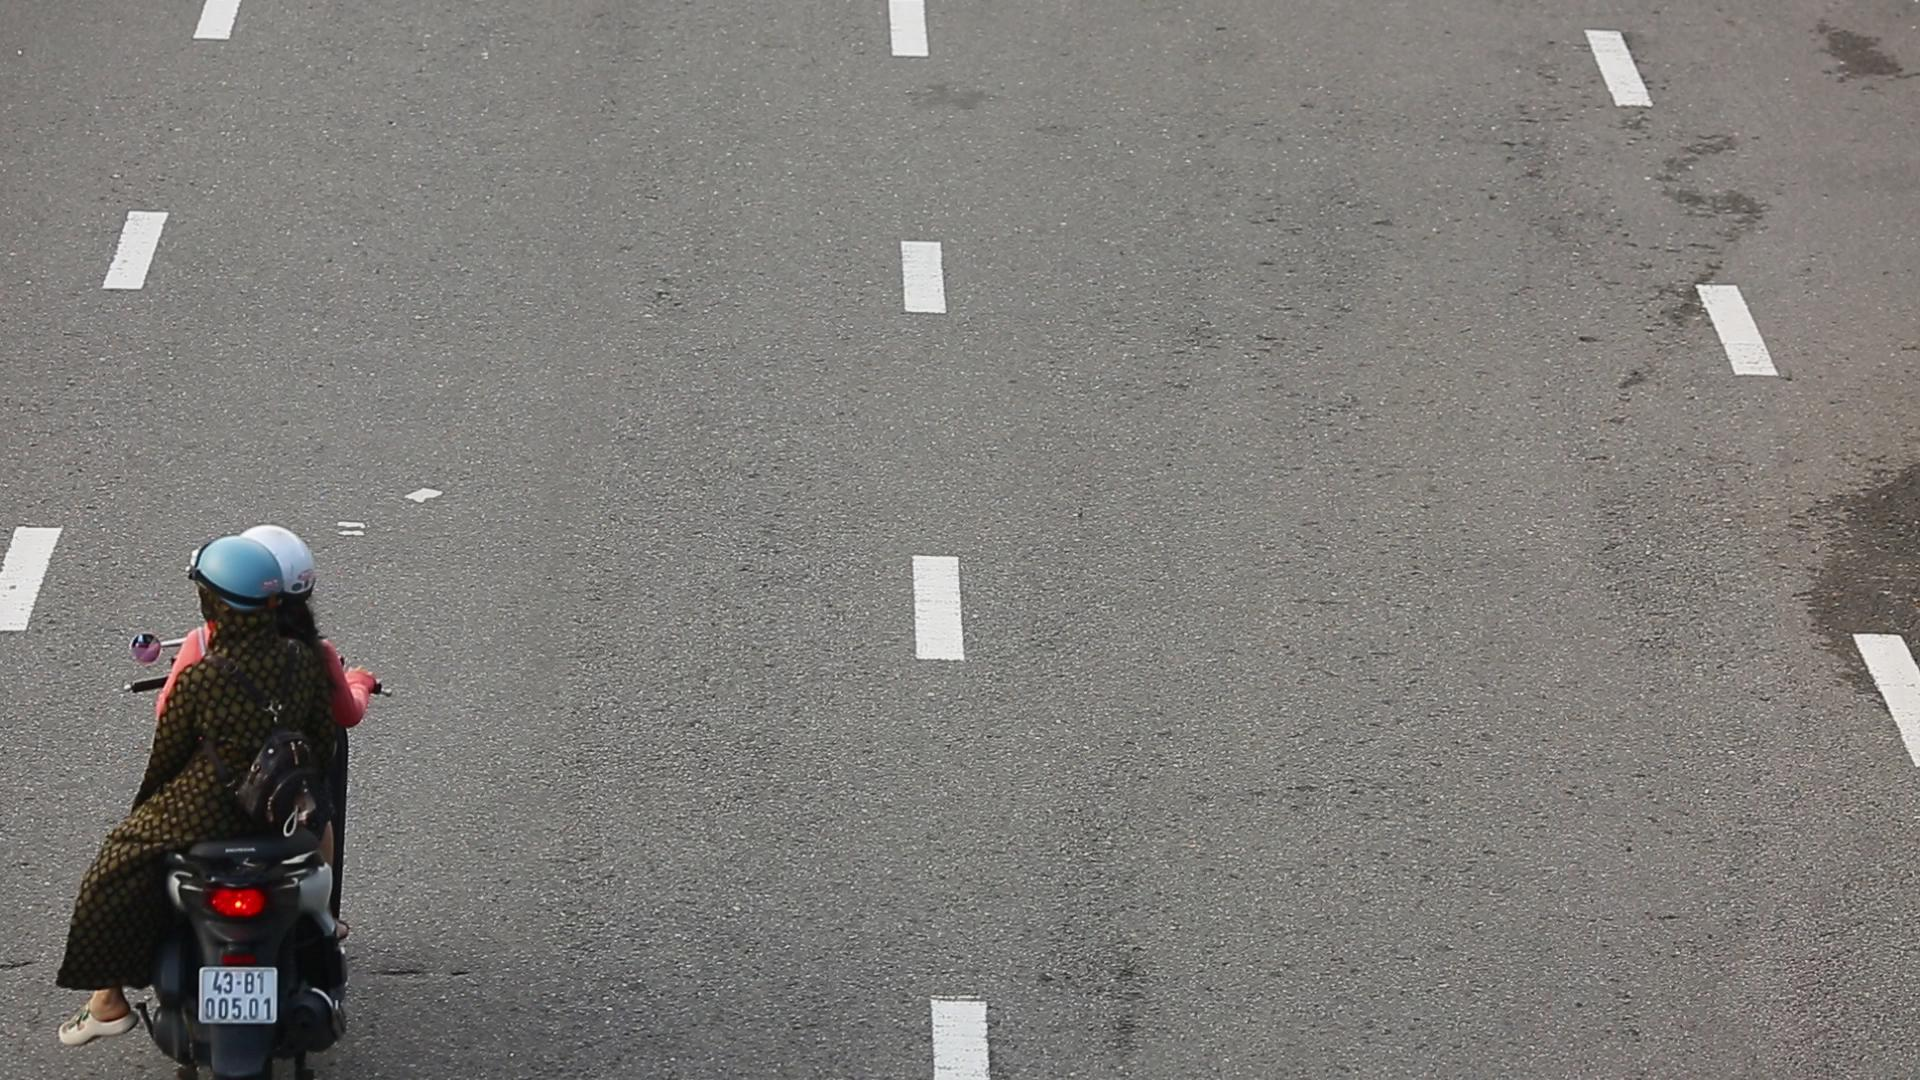motobike: (62, 527, 369, 1073)
